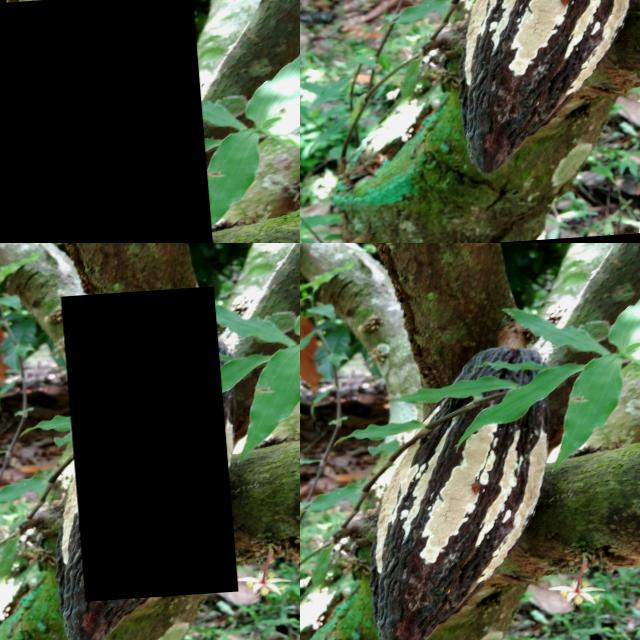Monilia: (342, 351, 558, 640), (58, 292, 229, 605), (300, 582, 325, 640)
Sana: (0, 0, 214, 243), (300, 0, 394, 175), (412, 0, 581, 67)
